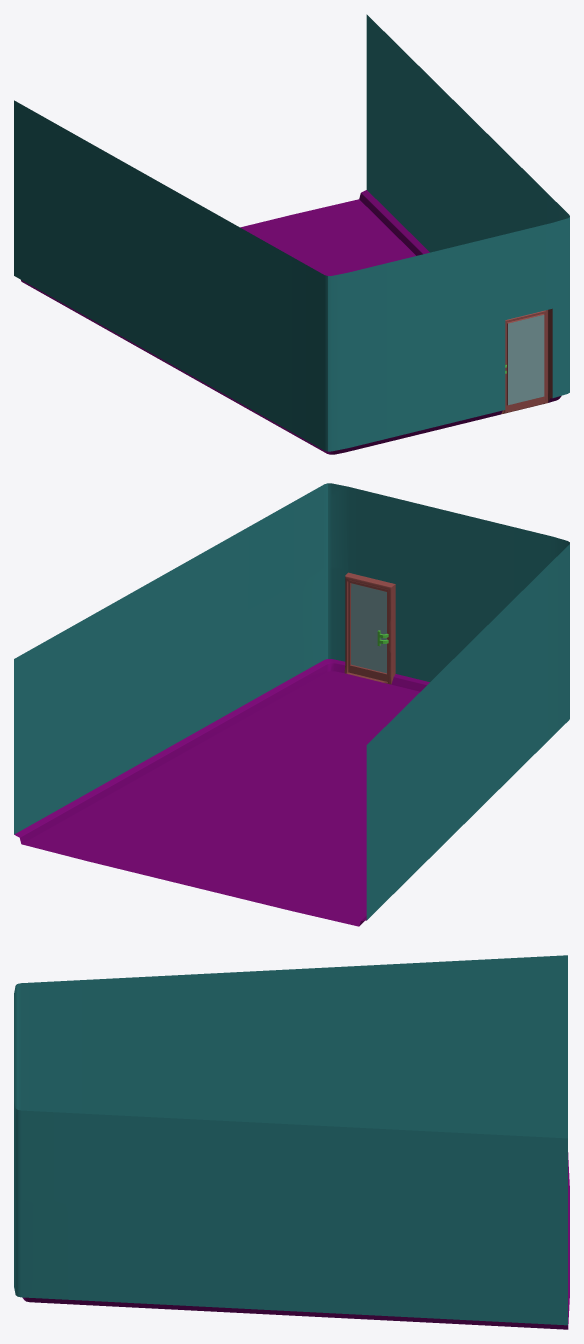
The model's file is room_low.fbx.
The picture shows the model from 3 angles, top to bottom: view 1: azimuth 30°, elevation 25°; view 2: azimuth 150°, elevation 25°; view 3: azimuth 270°, elevation 25°; orthographic projection. The views are drawn at different scales.
Visible parts, largest first — view 1: room_low; view 2: room_low; view 3: room_low.
Part boxes in pixels (x1,y1,x2,y2): room_low: (14, 14, 569, 454); room_low: (14, 483, 569, 926); room_low: (14, 955, 569, 1329).
Size of the model in its own units: 48.2 by 23.94 by 61.82.
